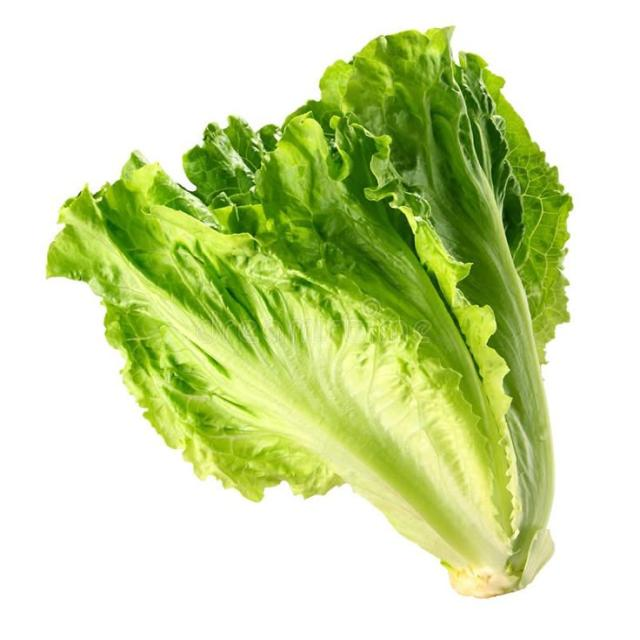lettuce: (48, 30, 570, 596)
